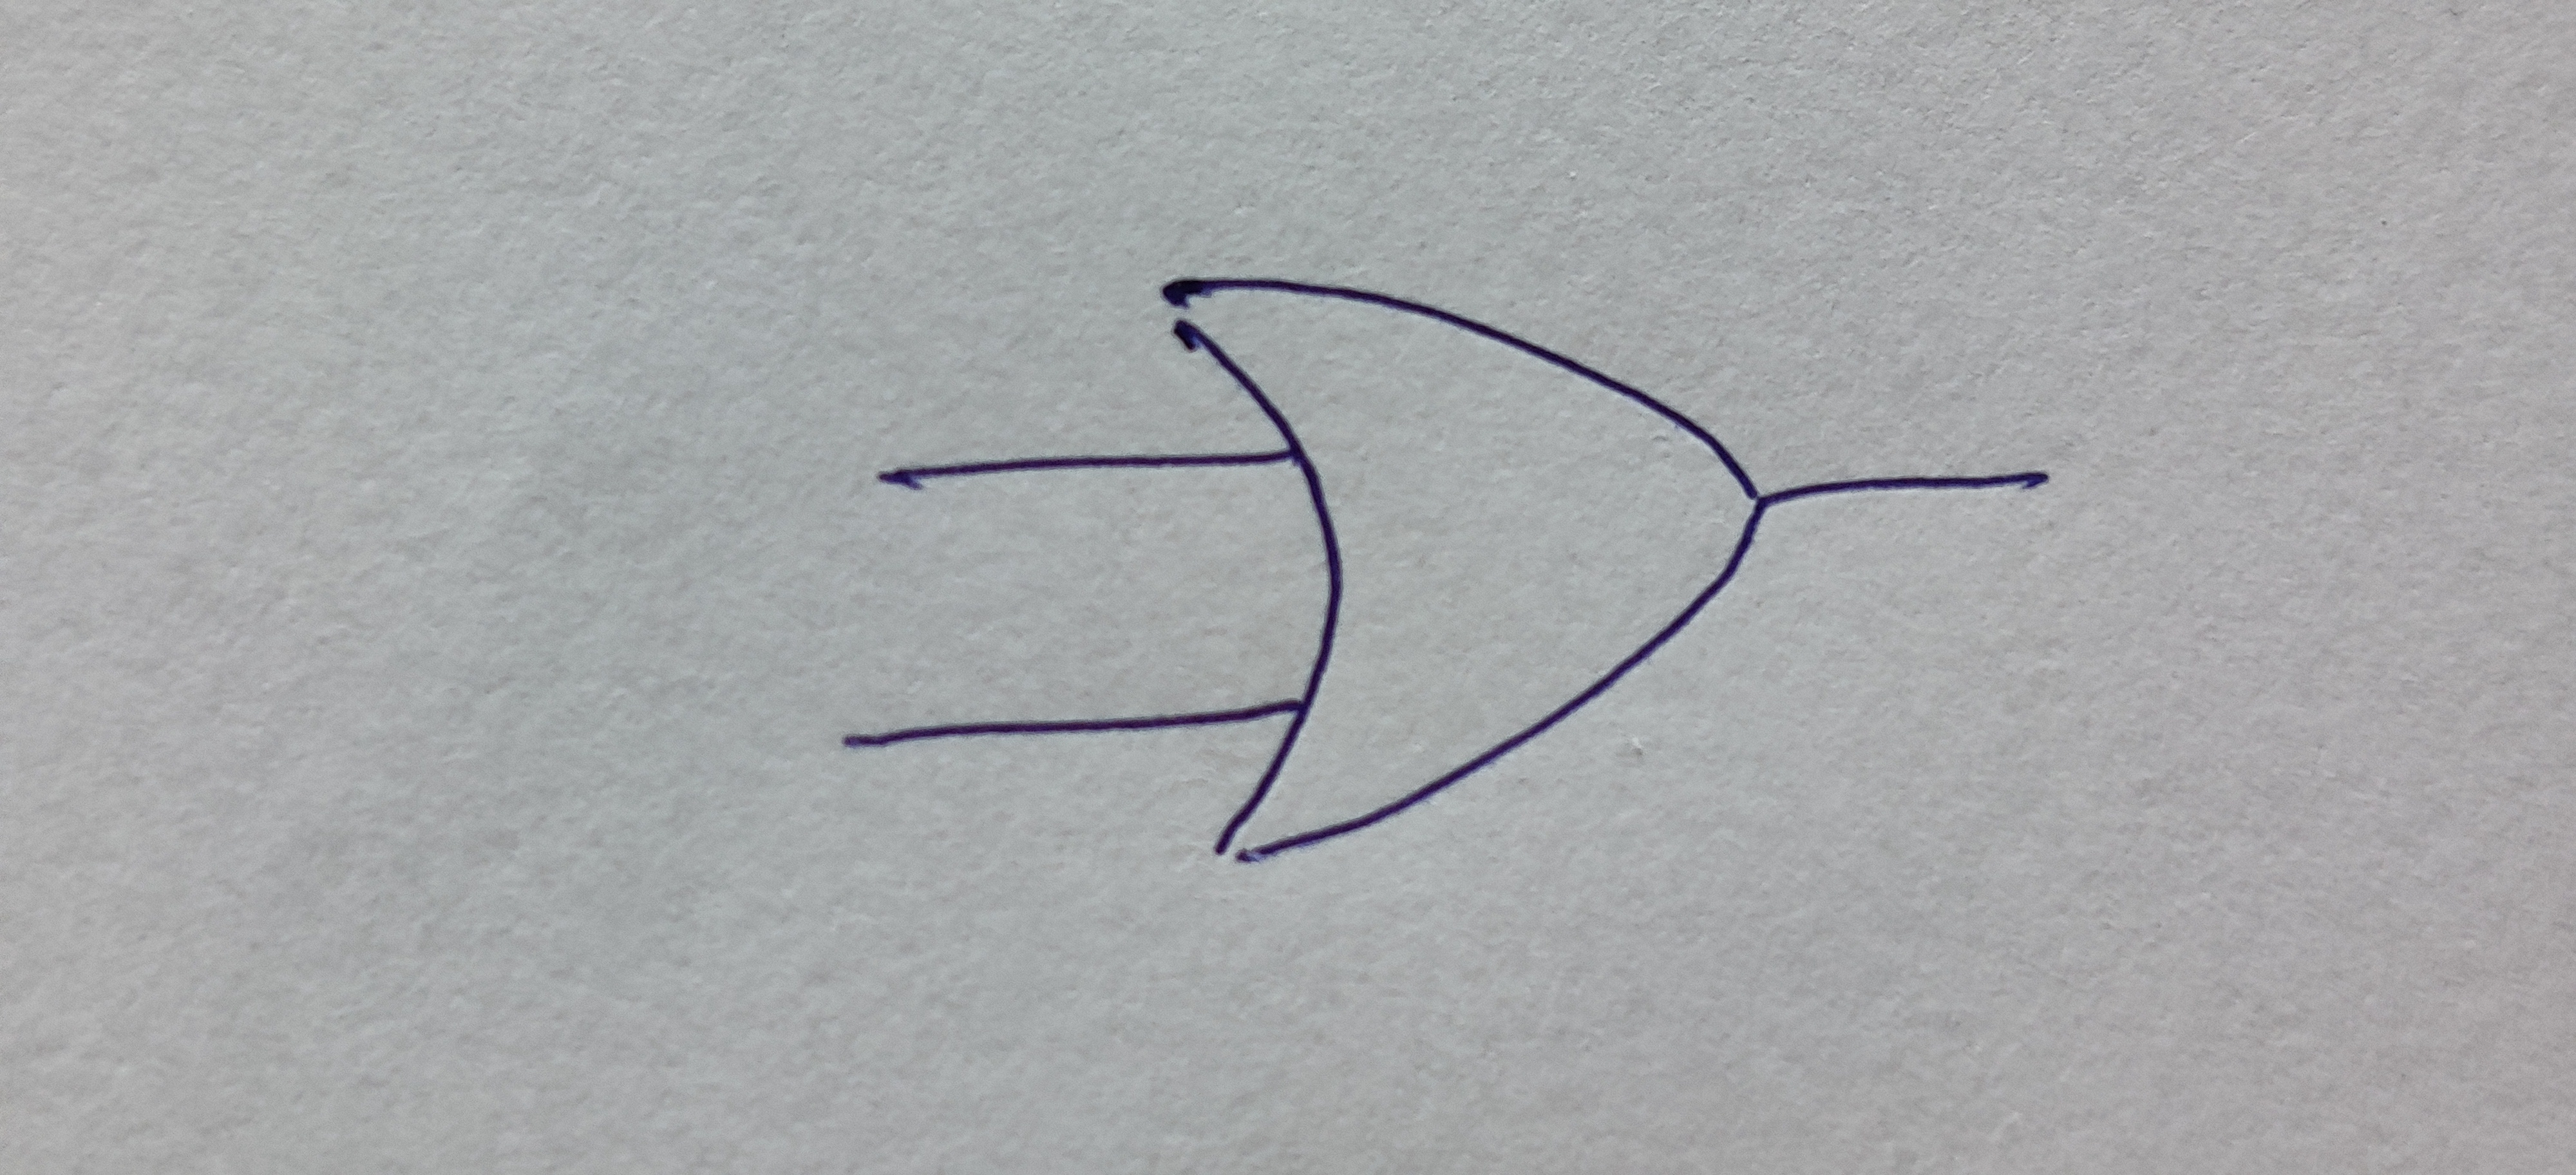or: (1163, 276, 1763, 863)
